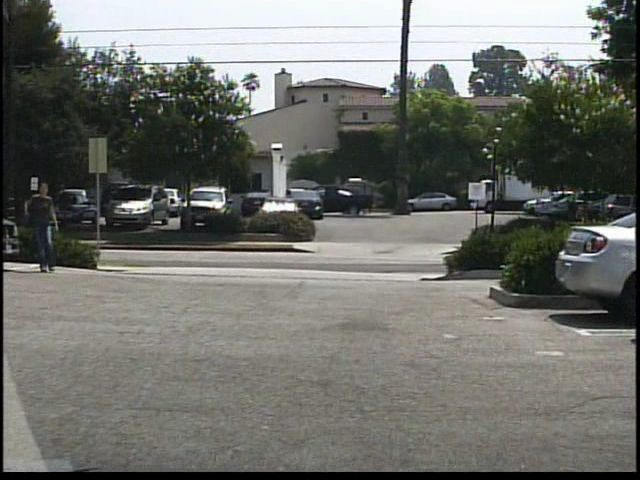person: (28, 182, 64, 274)
